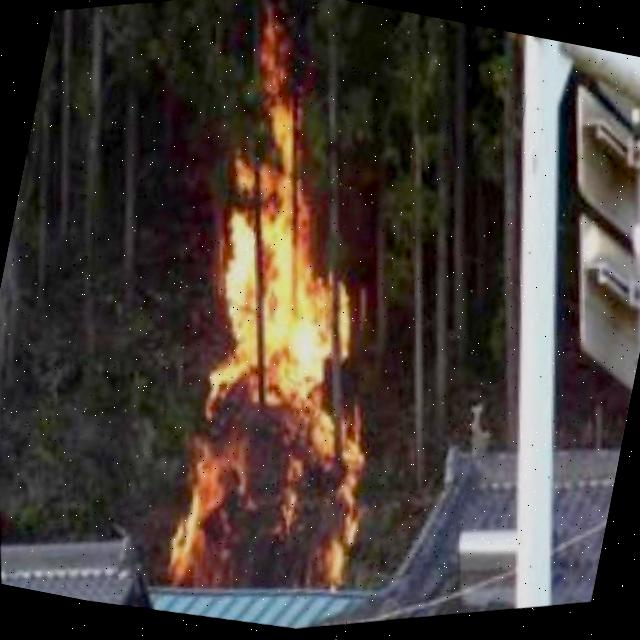fire: (134, 3, 459, 633)
